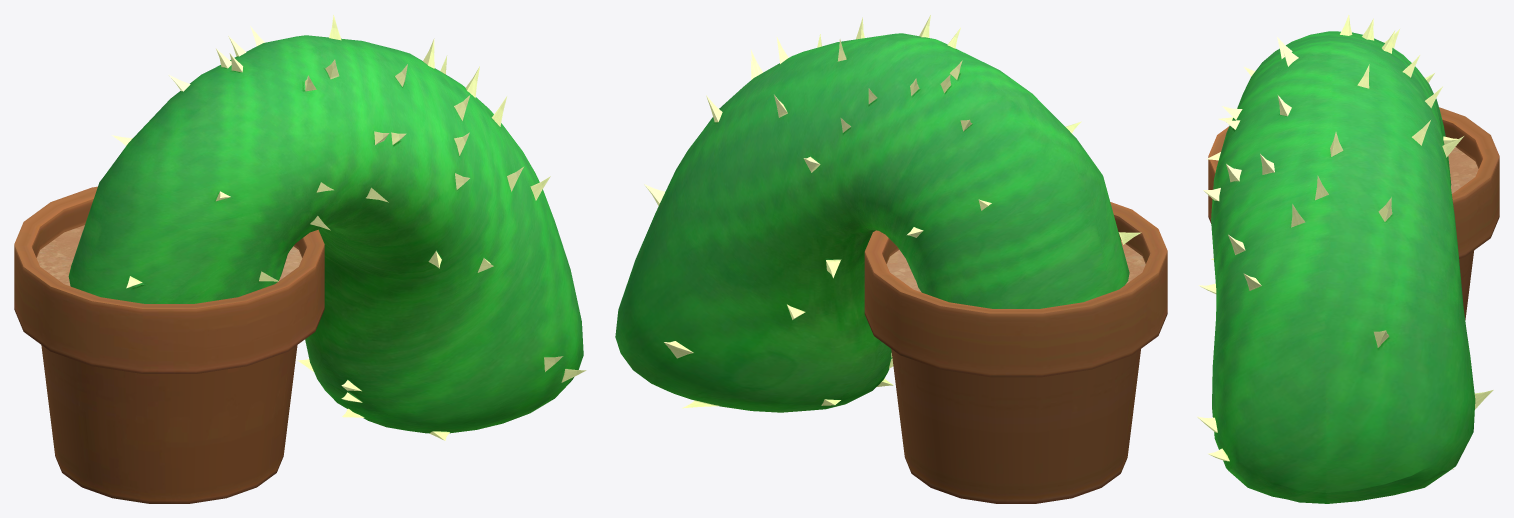
The picture shows the model from 3 angles, left to right: view 1: azimuth 30°, elevation 25°; view 2: azimuth 150°, elevation 25°; view 3: azimuth 270°, elevation 25°; orthographic projection. The views are drawn at different scales.
Parts seen in each view (by area): view 1: spilled cactus; view 2: spilled cactus; view 3: spilled cactus.
Part boxes in pixels (x1,y1,x2,y2): spilled cactus: (14, 15, 586, 503); spilled cactus: (615, 15, 1167, 503); spilled cactus: (1197, 15, 1499, 503).
Bounding box in the file's own units: 1 × 0.7402 × 0.5465.
1 material, 1 textured.
